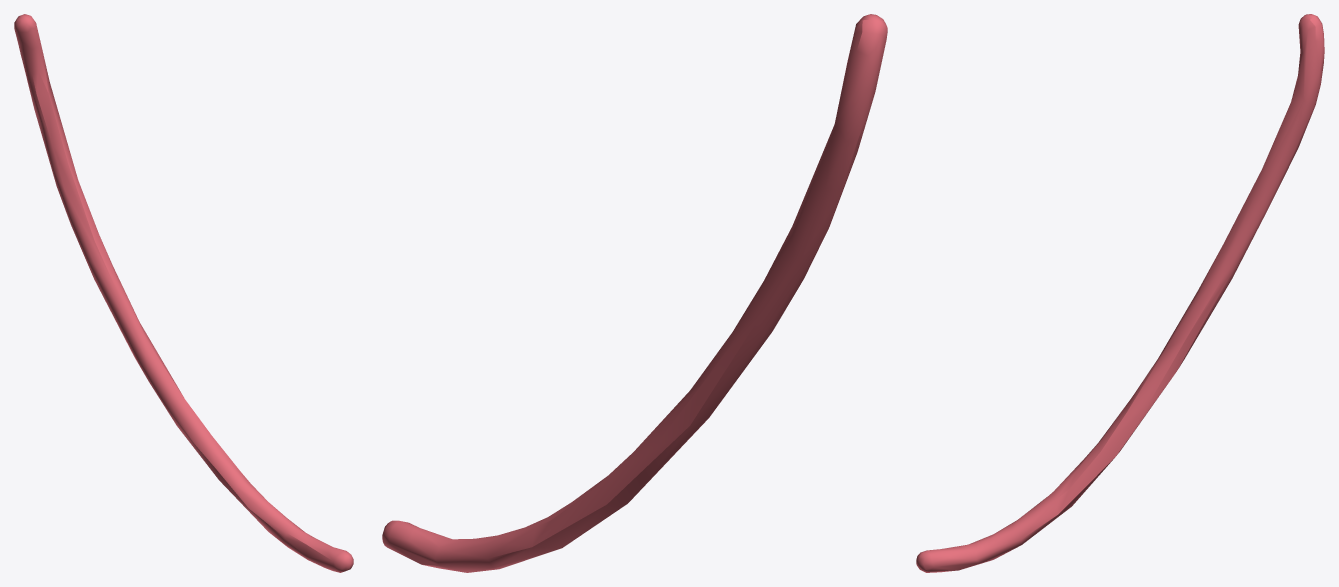
File: fma22805_fj2241.glb
3 views of the same model, side by side, from view 1: azimuth 30°, elevation 25°; view 2: azimuth 210°, elevation 25°; view 3: azimuth 270°, elevation 25° (orthographic). The views are drawn at different scales.
Parts seen in each view (by area): view 1: FMA22805_FJ2241; view 2: FMA22805_FJ2241; view 3: FMA22805_FJ2241.
Boxes of the visible parts, x1,y1,x2,y2 form: FMA22805_FJ2241: (14,14,353,572); FMA22805_FJ2241: (382,14,887,572); FMA22805_FJ2241: (916,14,1324,572).
Size of the model in its own units: 0.0076 by 0.0214 by 0.0162.
